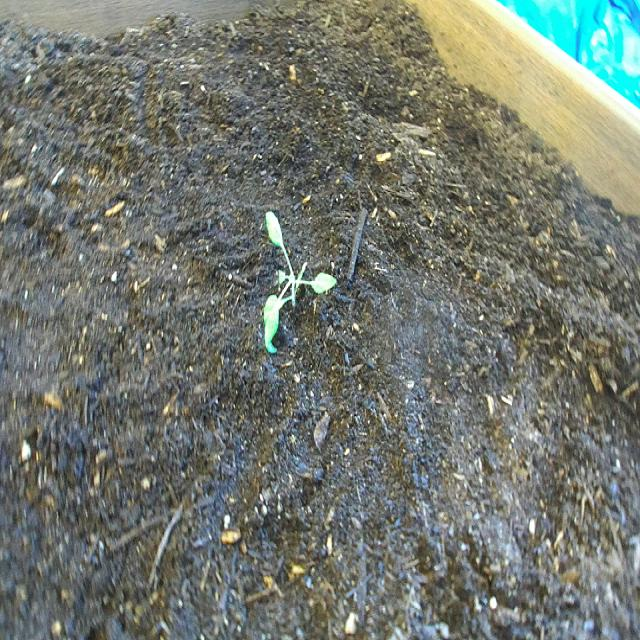Healthy: (250, 186, 344, 370)
